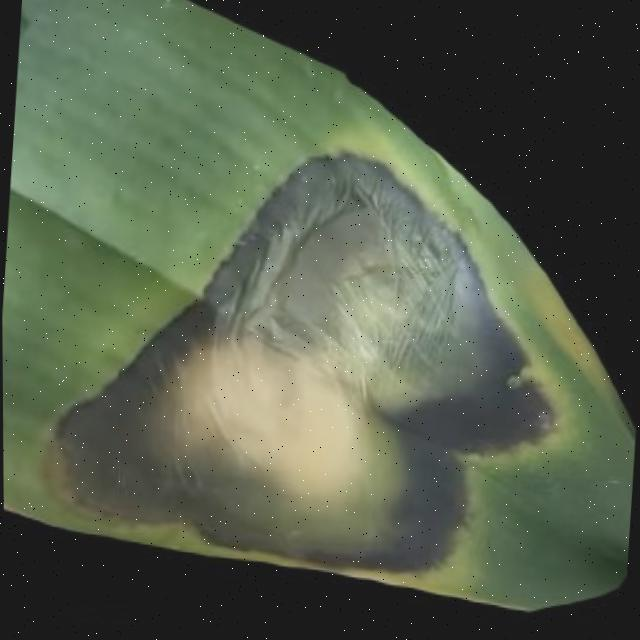mite: (193, 146, 482, 406), (381, 358, 559, 466), (355, 446, 469, 579), (494, 366, 559, 453), (498, 368, 536, 398), (19, 7, 31, 41)
sunburn: (35, 133, 578, 592)
